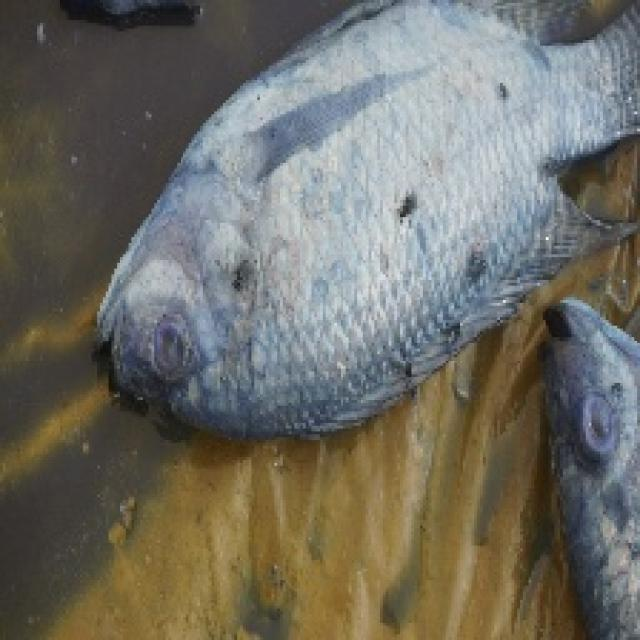Non-Fresh: (119, 12, 598, 431), (145, 306, 207, 386), (572, 381, 628, 465)
